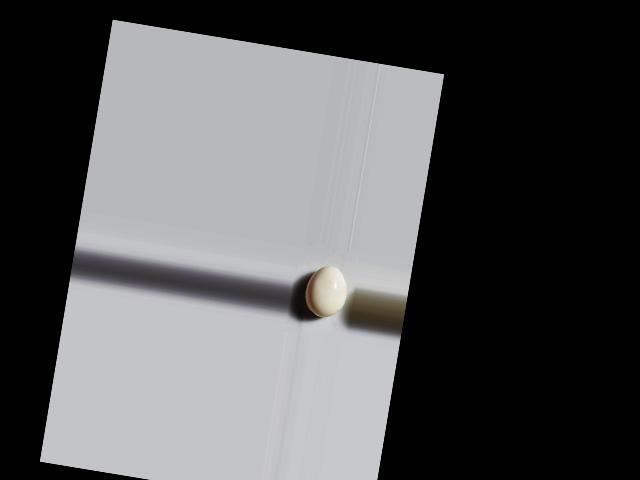egg: (301, 263, 350, 321)
